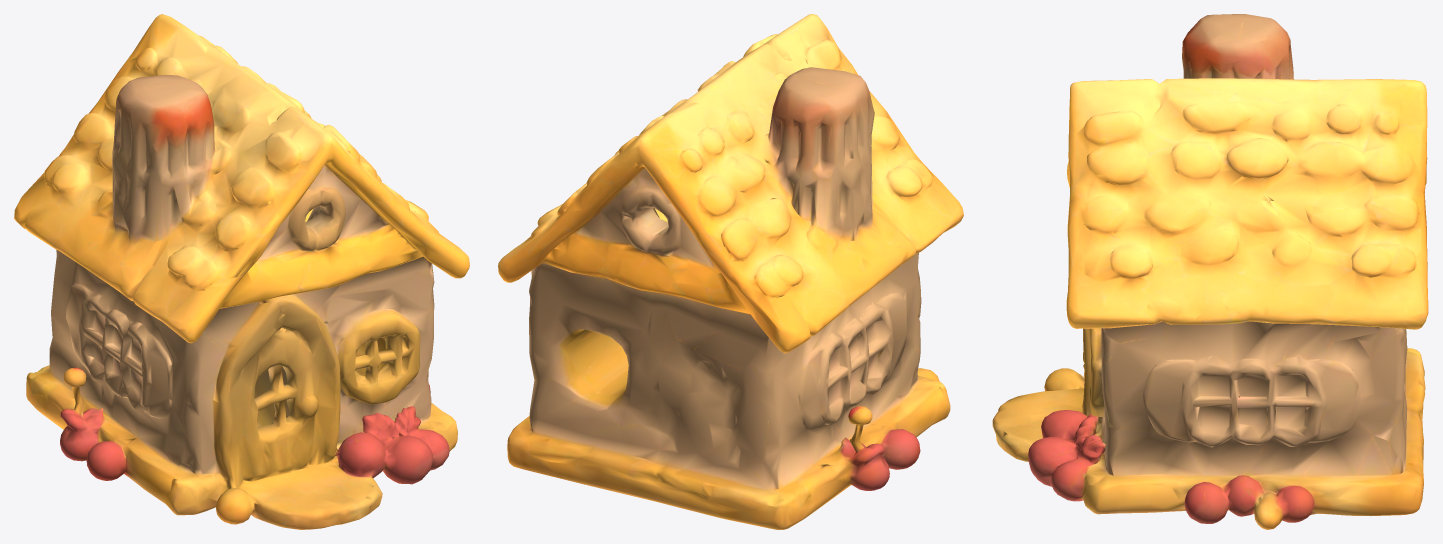
File: clay-cottage.glb
The picture shows the model from 3 angles, left to right: view 1: azimuth 30°, elevation 25°; view 2: azimuth 150°, elevation 25°; view 3: azimuth 270°, elevation 25°; orthographic projection. The views are drawn at different scales.
Bounding box in the file's own units: 1.79 × 1.85 × 1.91.
Materials: 1 (1 with a texture image).
